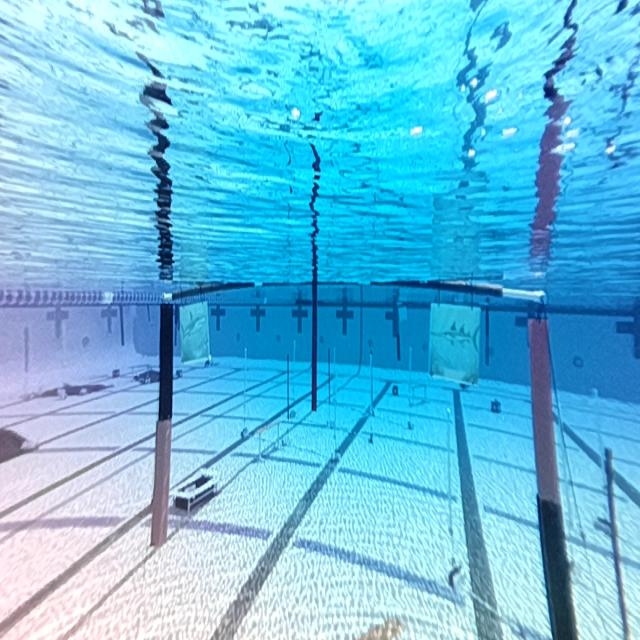pointed_nose: (431, 310, 476, 379)
round_nose: (181, 311, 210, 358)
